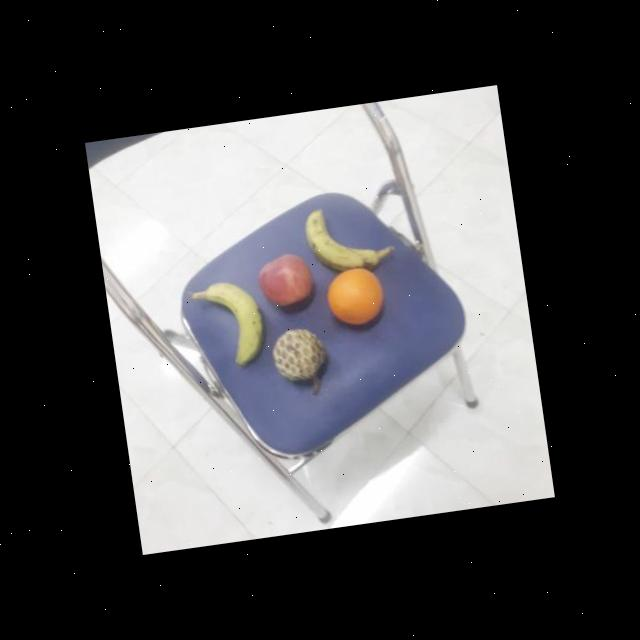Sakya fruit: (268, 322, 330, 382)
apple: (256, 250, 316, 310)
banana: (198, 276, 270, 369), (301, 199, 383, 279)
orange: (325, 262, 389, 328)
